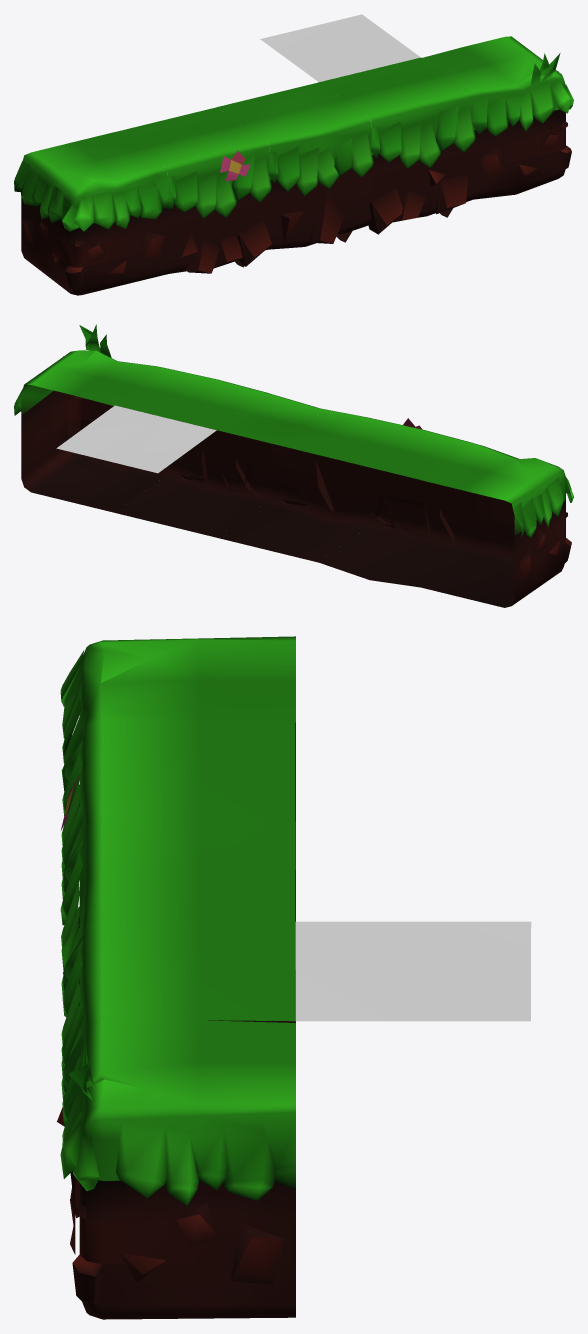
File: env_tiles.fbx
3 renders of one model, top to bottom at view 1: azimuth 30°, elevation 25°; view 2: azimuth 150°, elevation 25°; view 3: azimuth 270°, elevation 25°, orthographic. The views are drawn at different scales.
Visible parts, largest first — view 1: tile_corner_R, tile_center_2, tile_center_0, tile_center_1, tile_corner_L, tile_middle_0; view 2: tile_center_0, tile_center_1, tile_corner_R, tile_center_2, tile_corner_L, tile_middle_0; view 3: tile_corner_L, tile_middle_0, tile_center_0, tile_center_2, tile_center_1, tile_corner_R.
Boxes of the visible parts, <box> form: tile_corner_R: <box>14,132,172,295</box>; tile_center_2: <box>319,57,478,234</box>; tile_center_0: <box>115,107,274,274</box>; tile_center_1: <box>217,82,376,249</box>; tile_corner_L: <box>422,36,573,199</box>; tile_middle_0: <box>260,14,420,81</box>; tile_center_0: <box>319,418,474,587</box>; tile_center_1: <box>217,393,372,562</box>; tile_corner_R: <box>421,442,573,607</box>; tile_center_2: <box>115,368,273,537</box>; tile_corner_L: <box>14,324,167,512</box>; tile_middle_0: <box>56,405,216,473</box>; tile_corner_L: <box>60,1017,295,1319</box>; tile_middle_0: <box>295,921,531,1021</box>; tile_center_0: <box>60,719,295,1022</box>; tile_center_2: <box>57,918,295,1217</box>; tile_center_1: <box>60,818,295,1005</box>; tile_corner_R: <box>60,636,295,921</box>.
Size of the model in its own units: 5 by 1.32 by 2.01.
